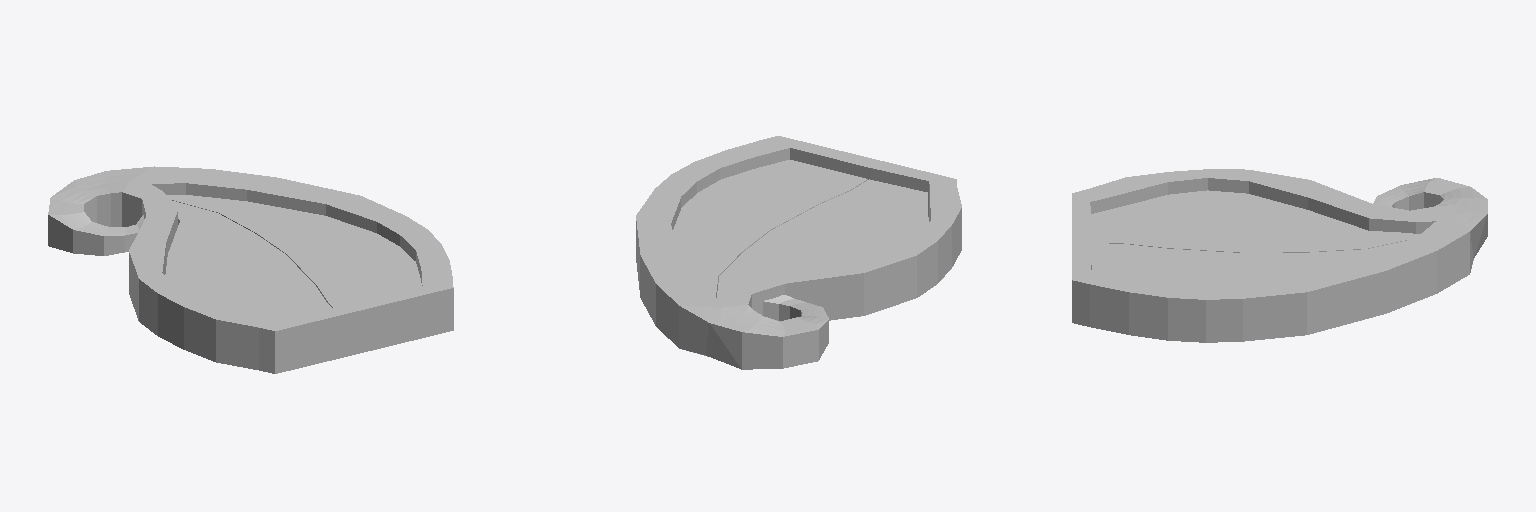
The model's file is Rock_doo.obj.
The picture shows the model from 3 angles: view 1: azimuth 30°, elevation 25°; view 2: azimuth 150°, elevation 25°; view 3: azimuth 270°, elevation 25°; orthographic projection.
Parts seen in each view (by area): view 1: Frame_Cube, Lef_Door_Cube.001, Right_door_Cube.002; view 2: Frame_Cube, Right_door_Cube.002, Lef_Door_Cube.001; view 3: Frame_Cube, Lef_Door_Cube.001, Right_door_Cube.002.
Boxes of the visible parts, x1,y1,x2,y2 form: Frame_Cube: [48, 166, 453, 373]; Lef_Door_Cube.001: [165, 200, 331, 319]; Right_door_Cube.002: [166, 195, 421, 307]; Frame_Cube: [636, 136, 961, 369]; Right_door_Cube.002: [673, 160, 867, 297]; Lef_Door_Cube.001: [717, 179, 928, 297]; Frame_Cube: [1072, 169, 1487, 342]; Lef_Door_Cube.001: [1091, 190, 1421, 252]; Right_door_Cube.002: [1092, 241, 1403, 286].
Bounding box in the file's own units: 3.51 × 0.5374 × 4.72.